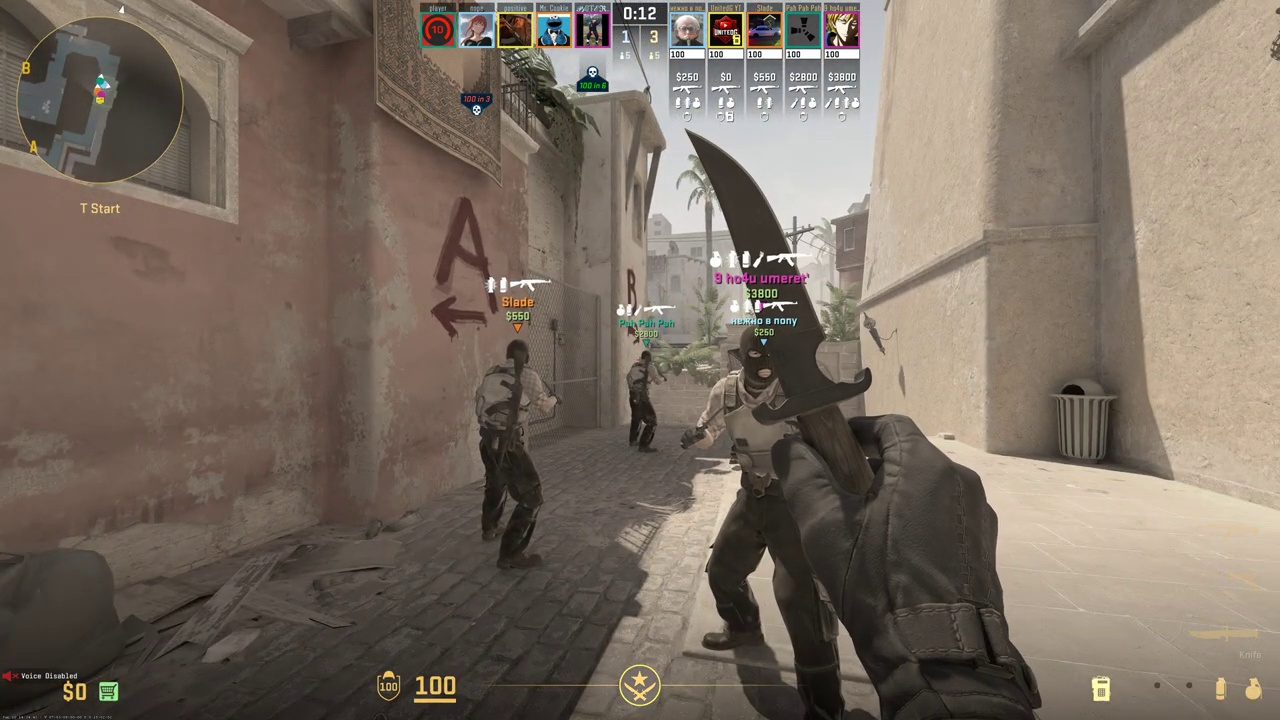Terrorist: (702, 326, 828, 713), (483, 340, 550, 571), (628, 350, 658, 450)
